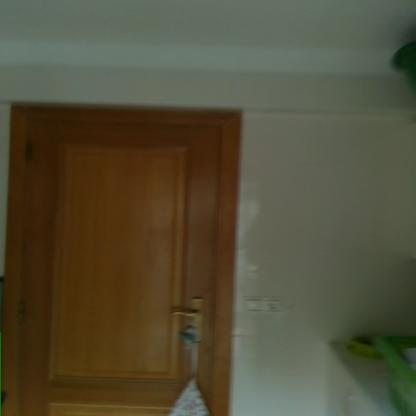closed: (3, 73, 263, 399)
